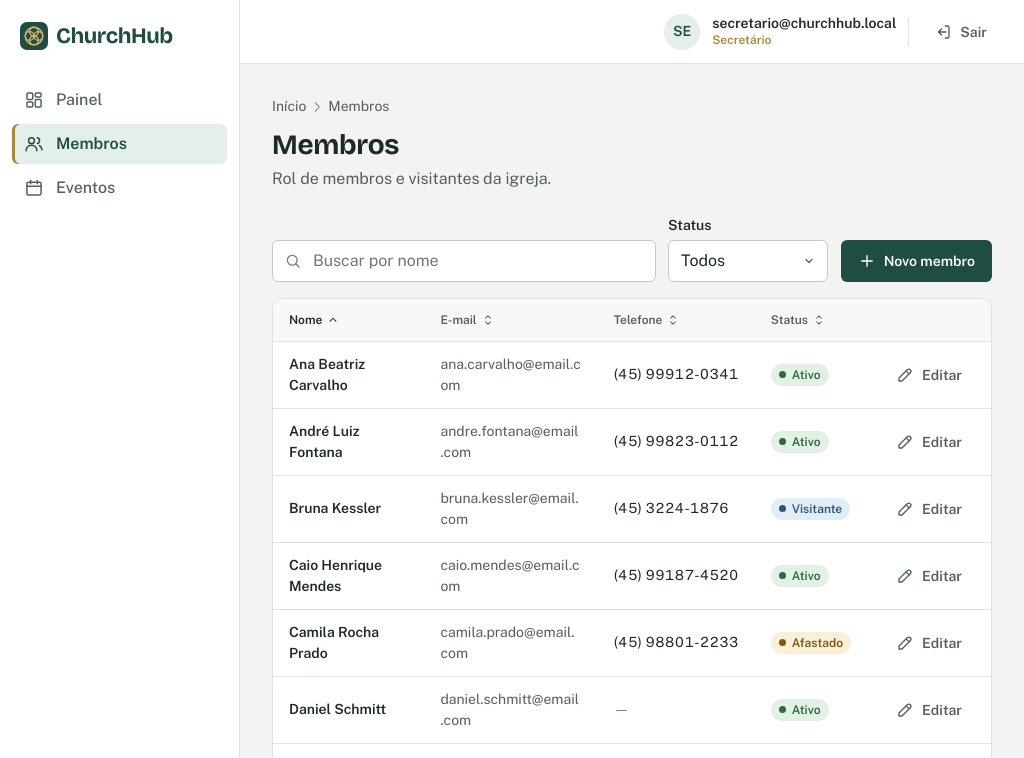
it: listagem de membros: pesquisa, filtro e ordenação › ordena ao clicar no cabeçalho e inverte no segundo clique
The width and height of the screenshot is (1024, 758).
Click the button "E-mail".
click(468, 320)  # box [436, 307, 499, 333]
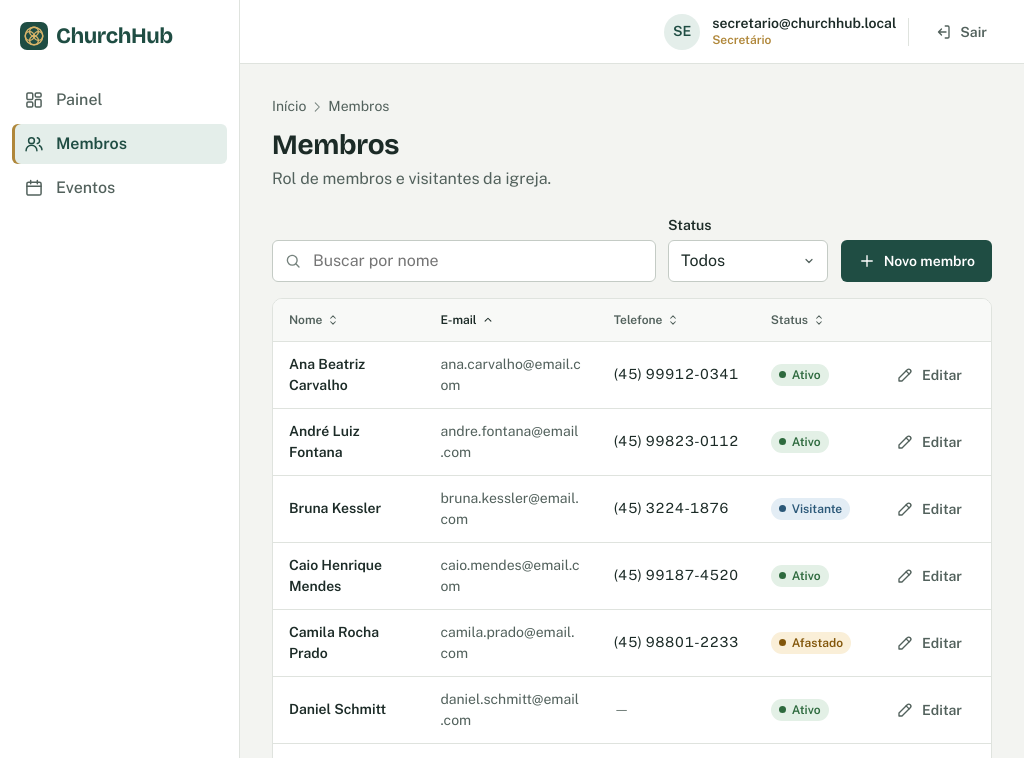
Now the column heading "E-mail" has attribute aria-sort="ascending", box [424, 299, 598, 341]
Click the button "E-mail".
click(468, 320)  # box [436, 307, 499, 333]
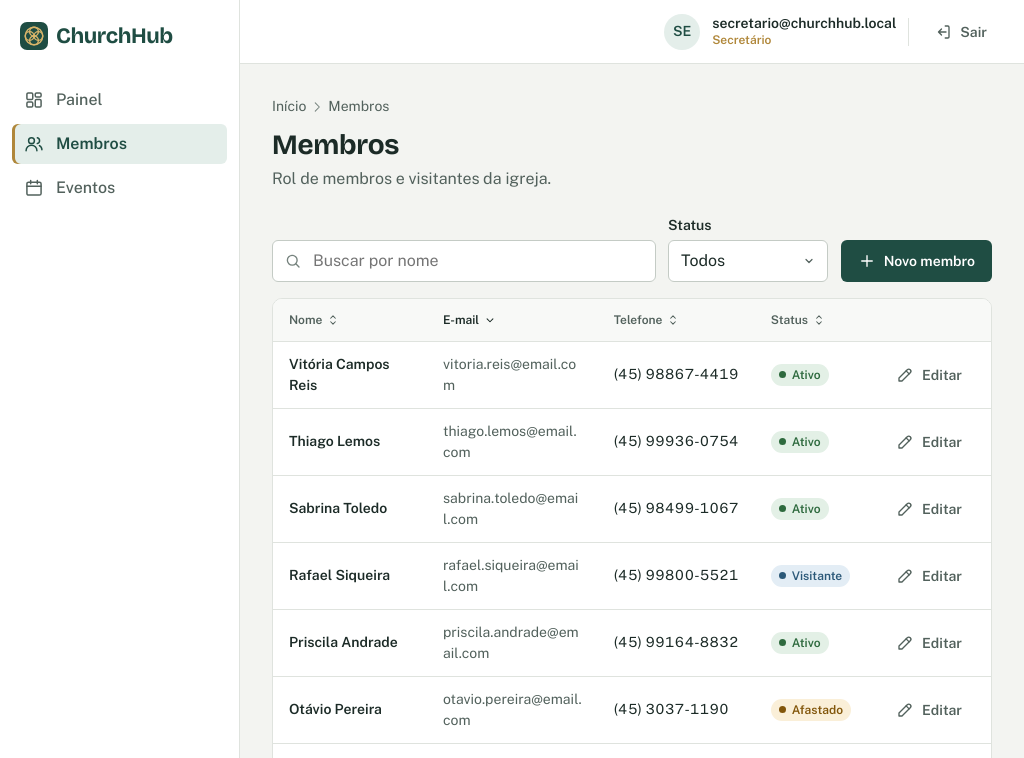
Now the link "Vitória Campos Reis" is shown, box [289, 356, 390, 393]
